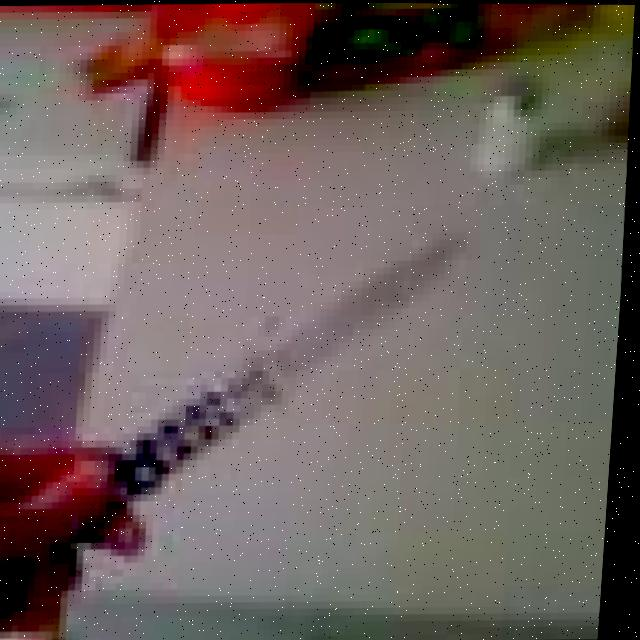knife: (116, 224, 482, 506)
